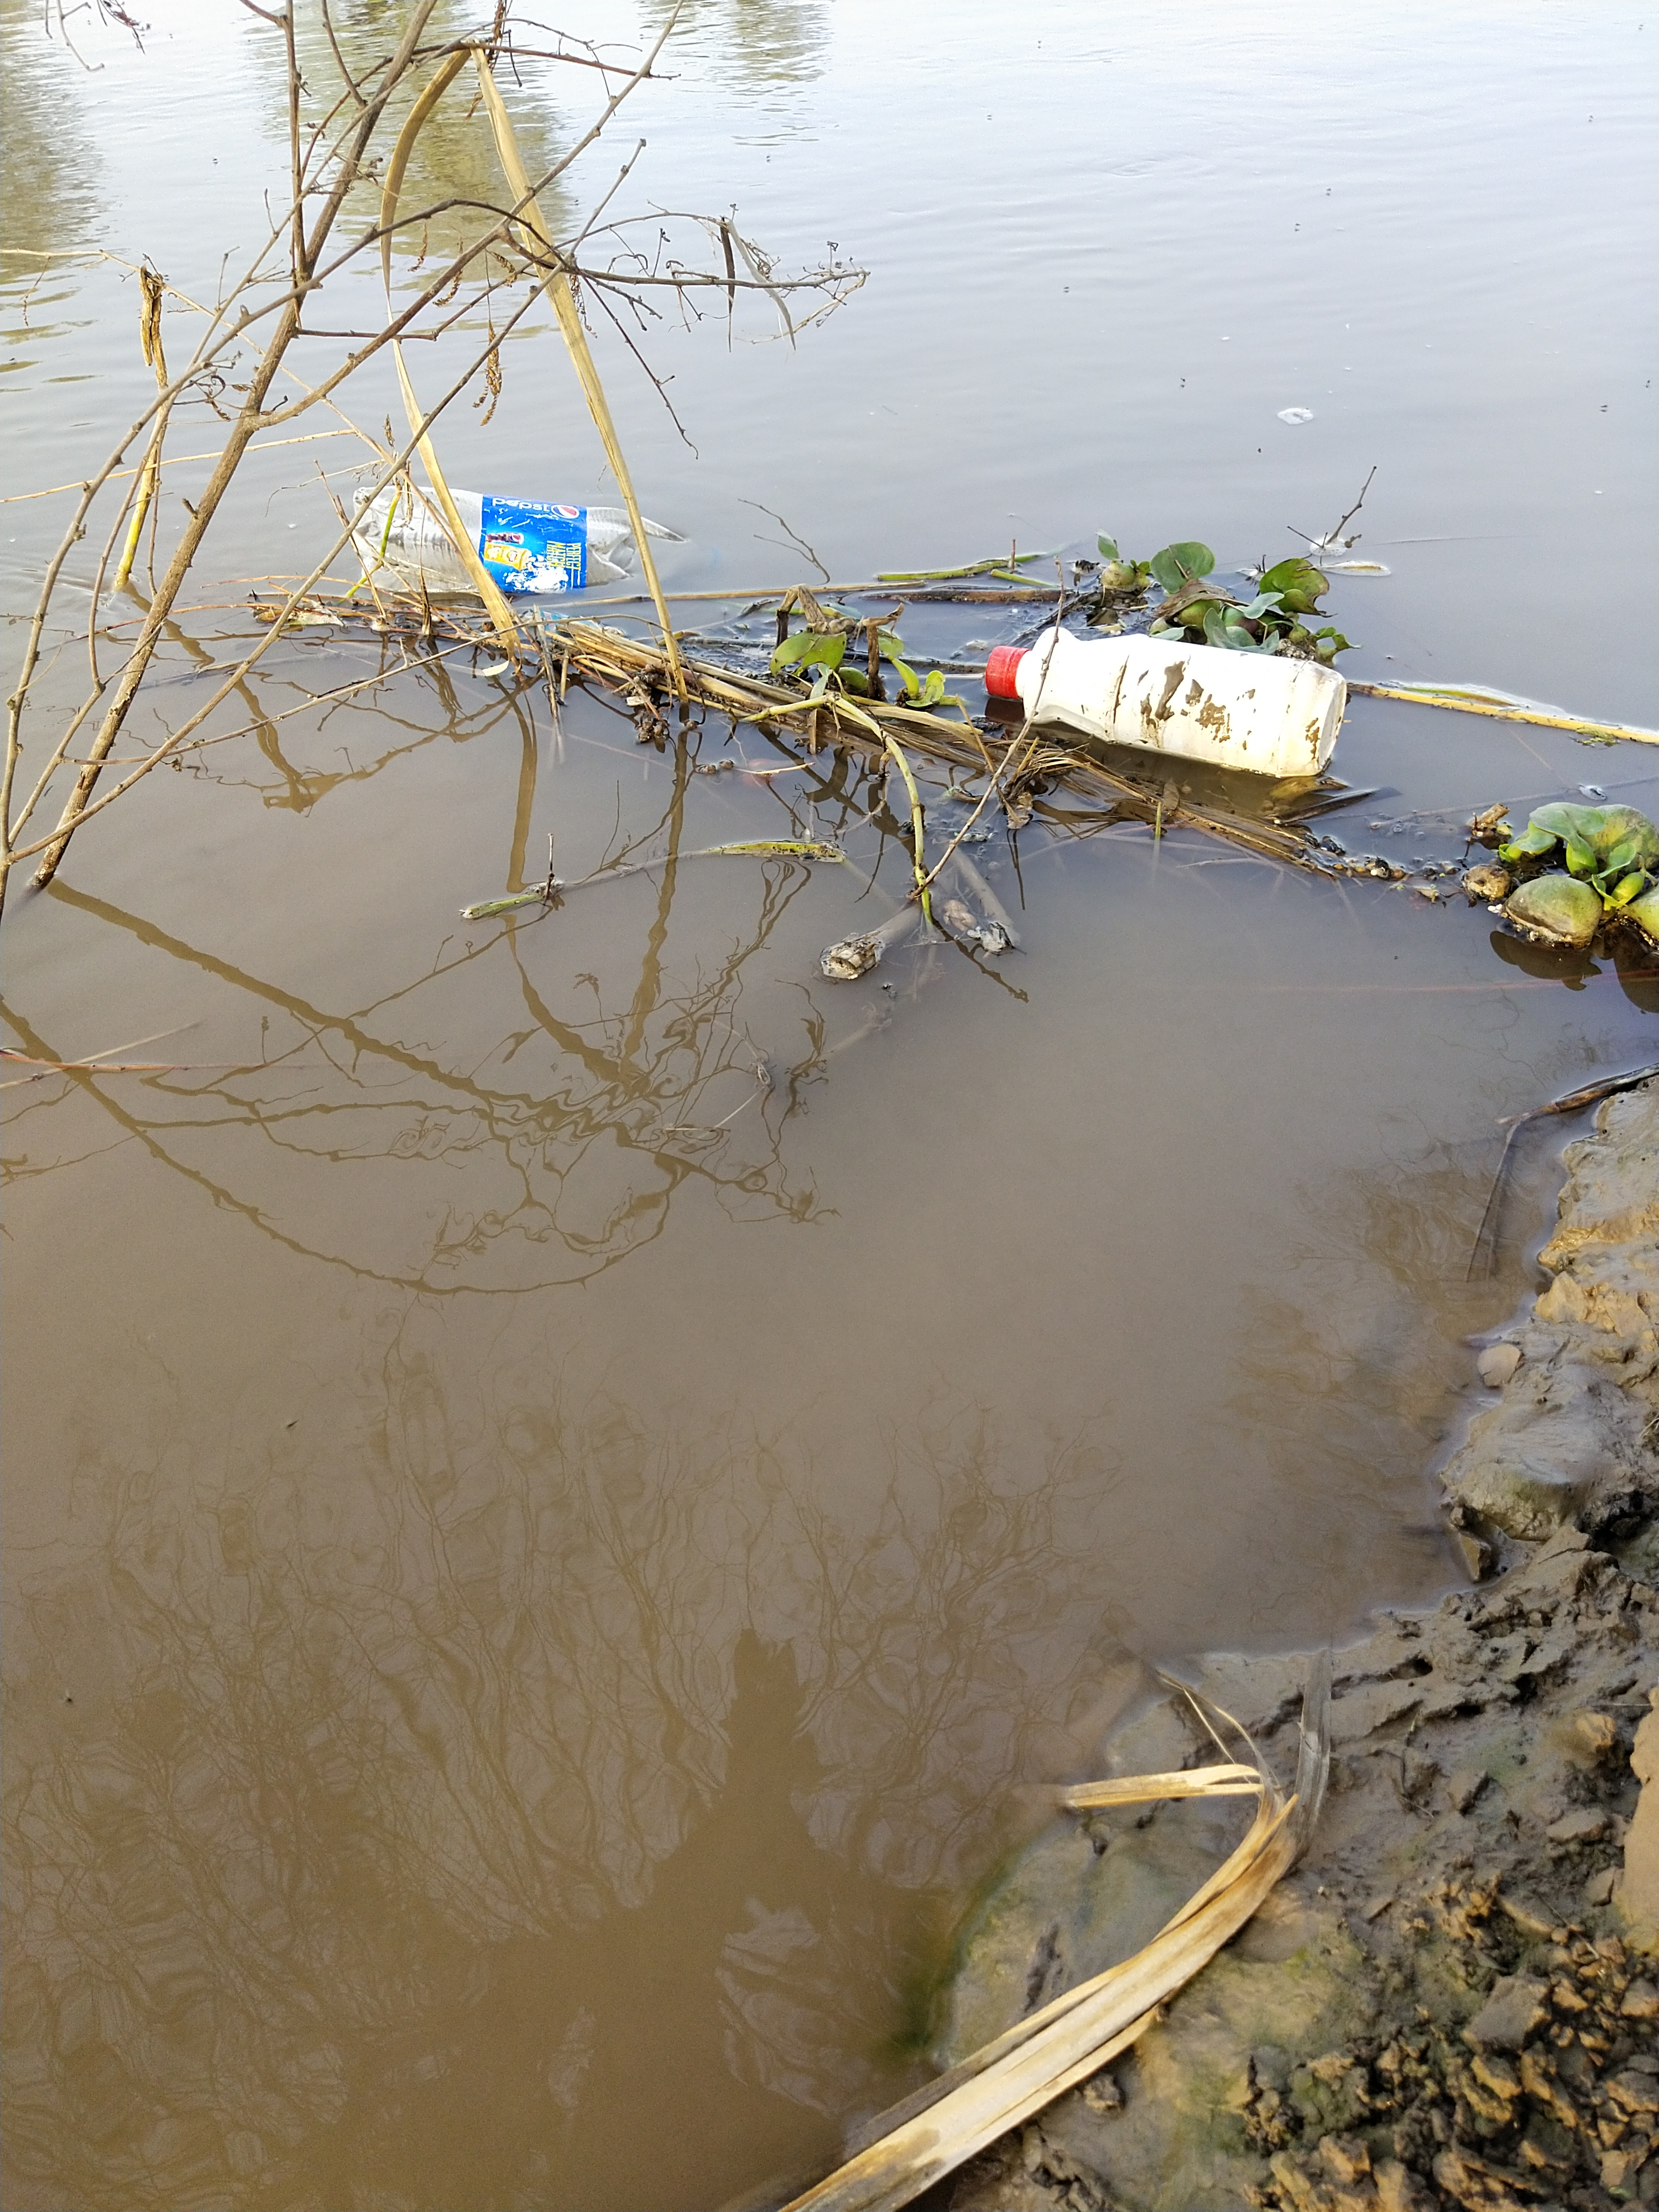Plastic Bottle: (983, 629, 1345, 782), (357, 486, 683, 596)
